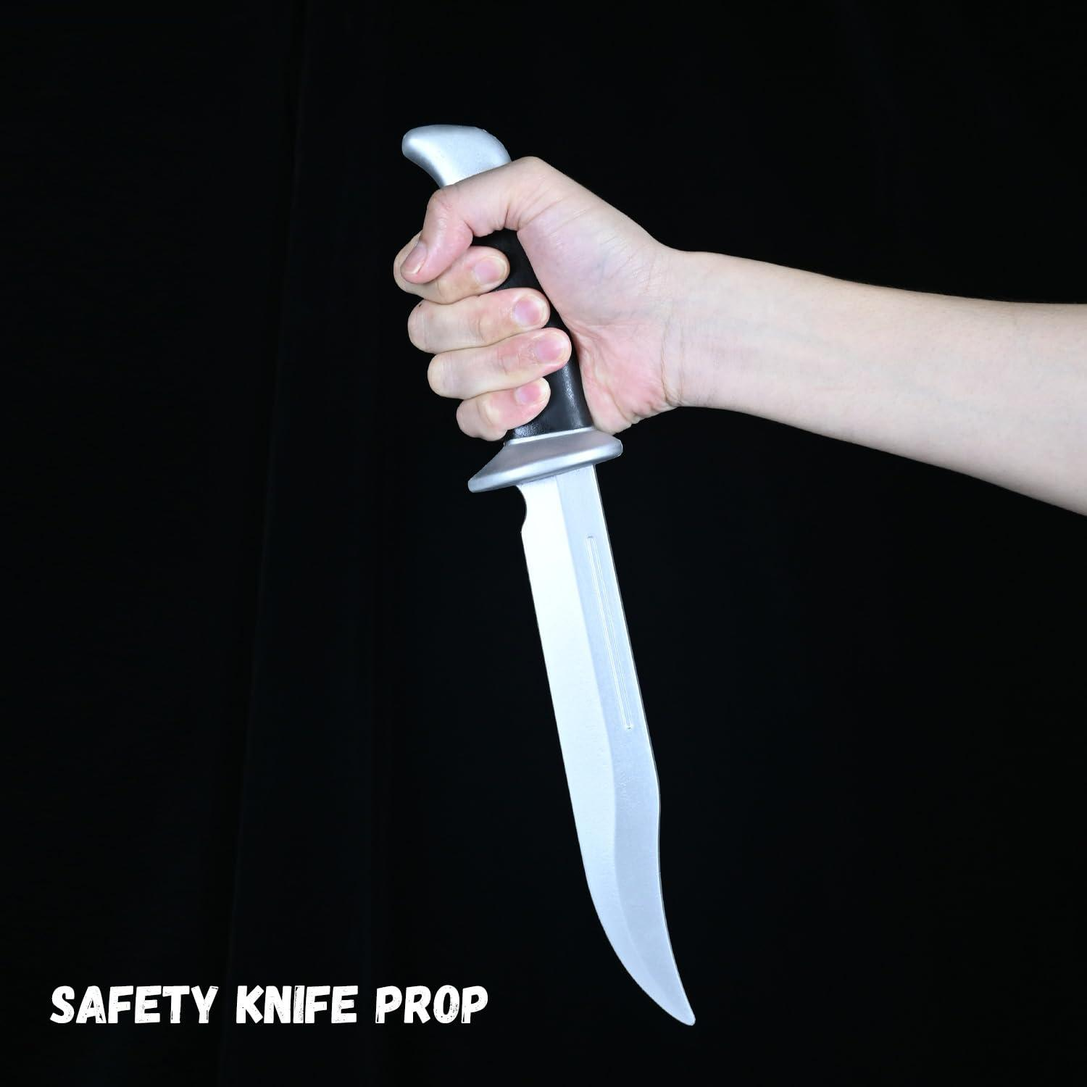Knife: (391, 154, 1087, 522), (468, 429, 713, 1023), (393, 159, 674, 439)
